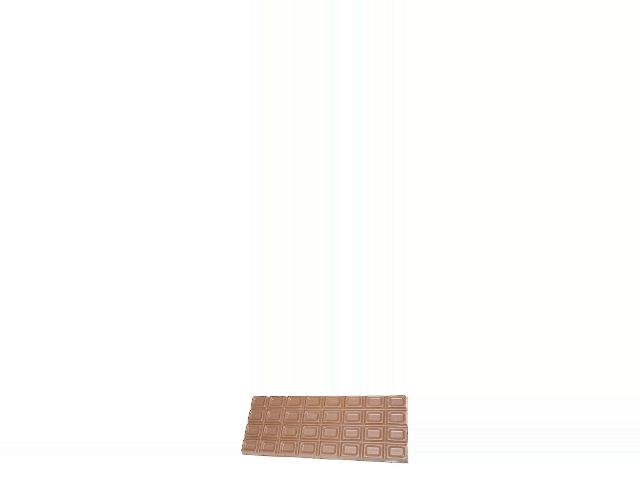chocolate: (239, 395, 409, 461)
